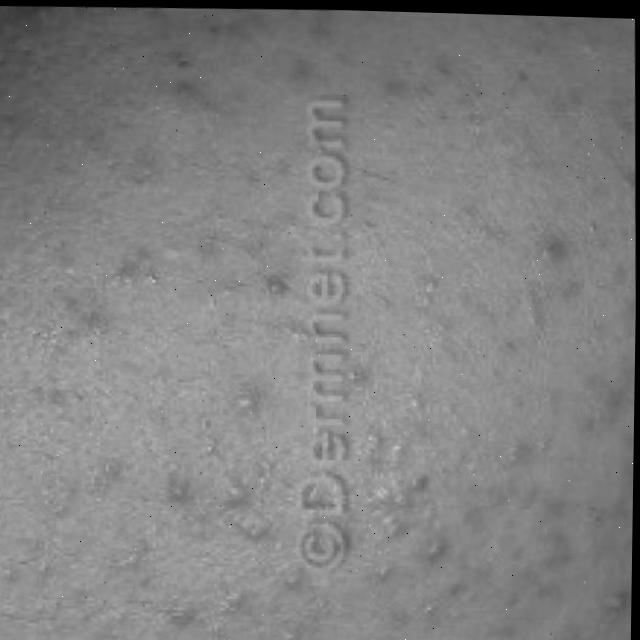Acne: (29, 84, 639, 636)
